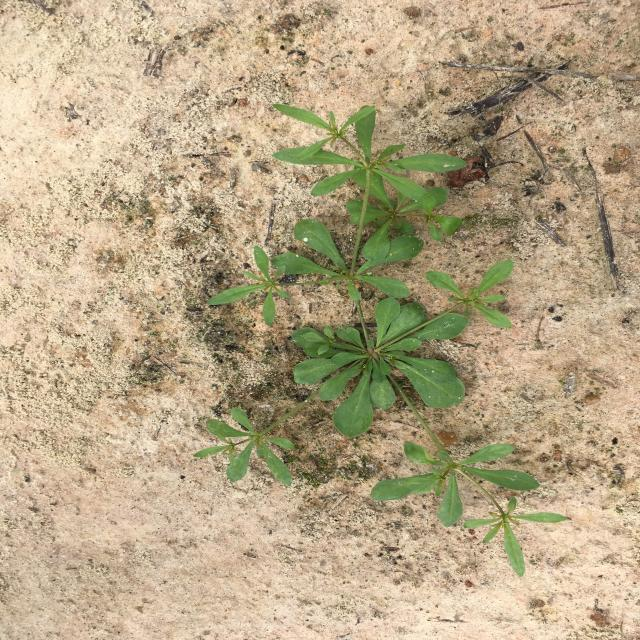Carpetweed: (192, 103, 568, 577)
